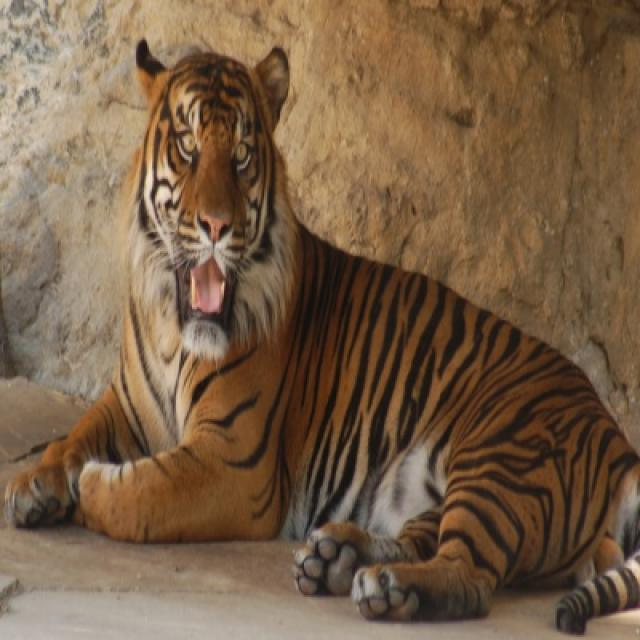Tiger: (8, 40, 638, 630)
